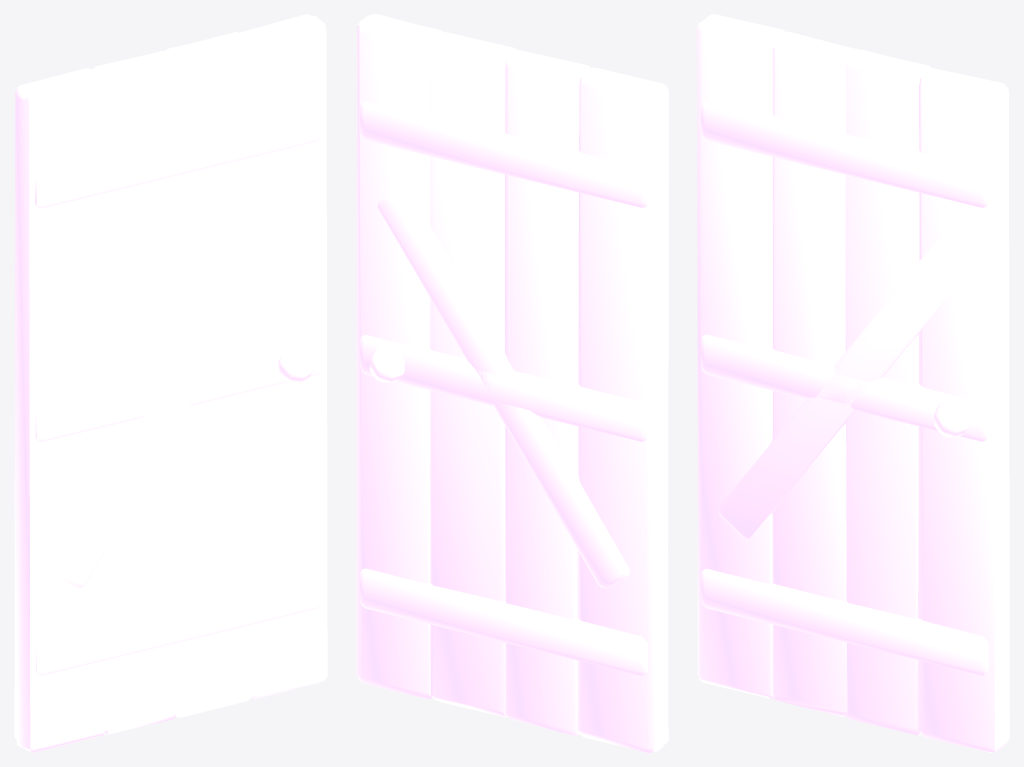
File: door_interior.gltf
3 views of the same model, side by side, from view 1: azimuth 30°, elevation 25°; view 2: azimuth 150°, elevation 25°; view 3: azimuth 330°, elevation 25° (orthographic).
Parts seen in each view (by area): view 1: HAUNT_door; view 2: HAUNT_door; view 3: HAUNT_door.
Boxes of the visible parts, box(x1,y1,x2,y2) form: HAUNT_door: box(14, 14, 327, 752); HAUNT_door: box(356, 14, 668, 752); HAUNT_door: box(697, 14, 1009, 752).
Size of what is drawn, in the model's own units: 0.9499 by 1.99 by 0.241.
